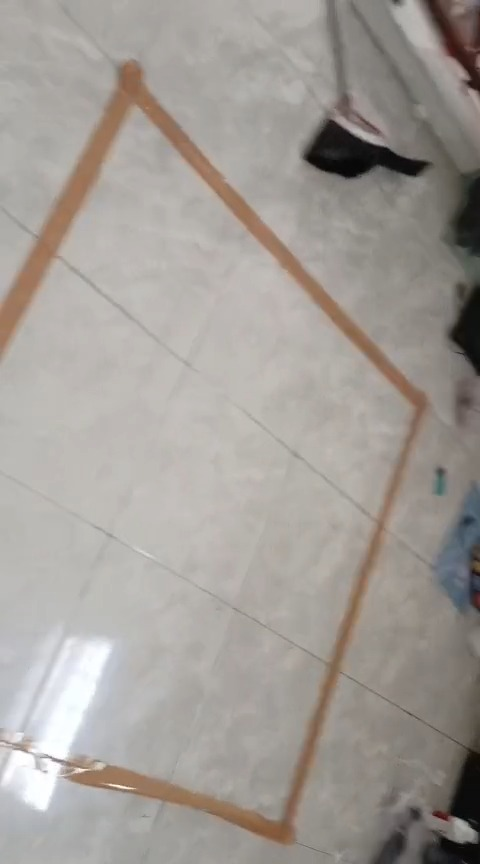floor marking: (0, 61, 427, 844)
